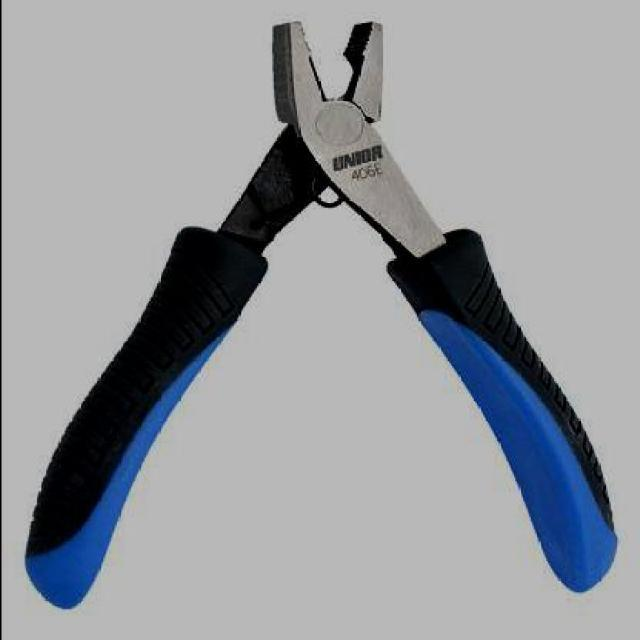pliers: (24, 23, 618, 614)
